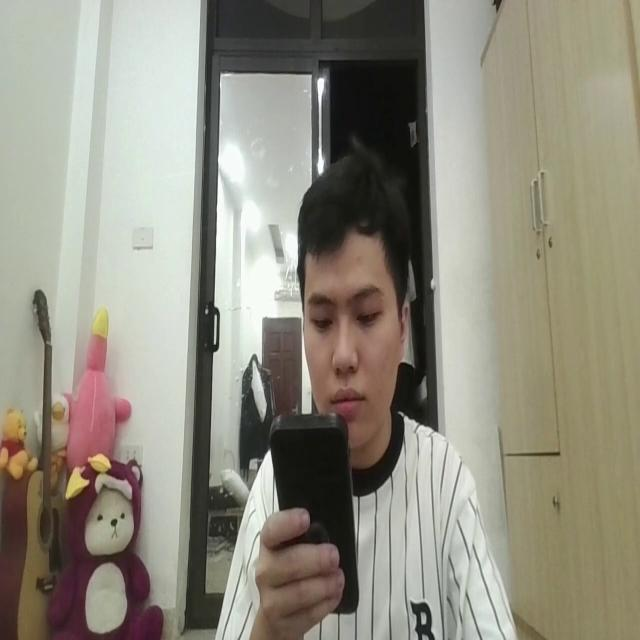phone: (267, 405, 361, 614)
student: (219, 138, 517, 640)
